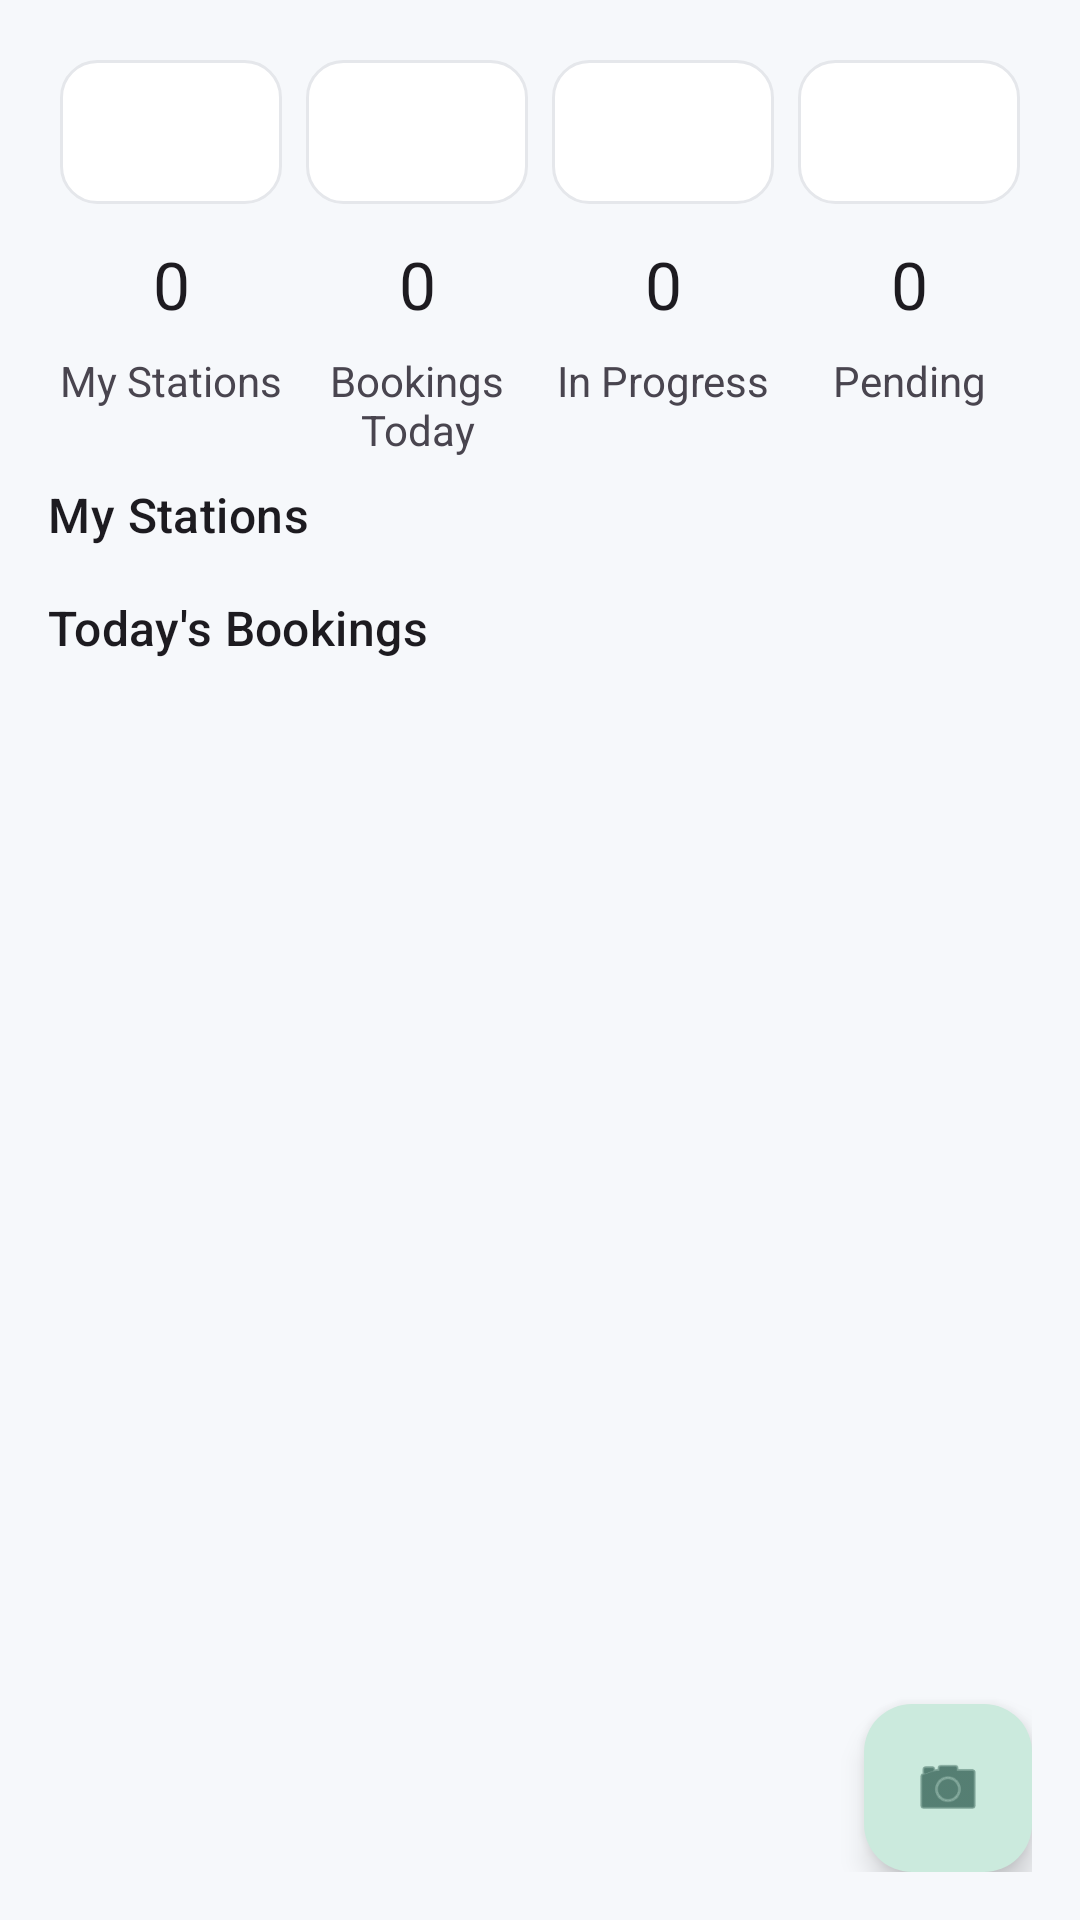

Point at icon controls on the screen. Image size 1080 × 1920, points as (x=x, y=y).
Scan: (x=948, y=1788)
